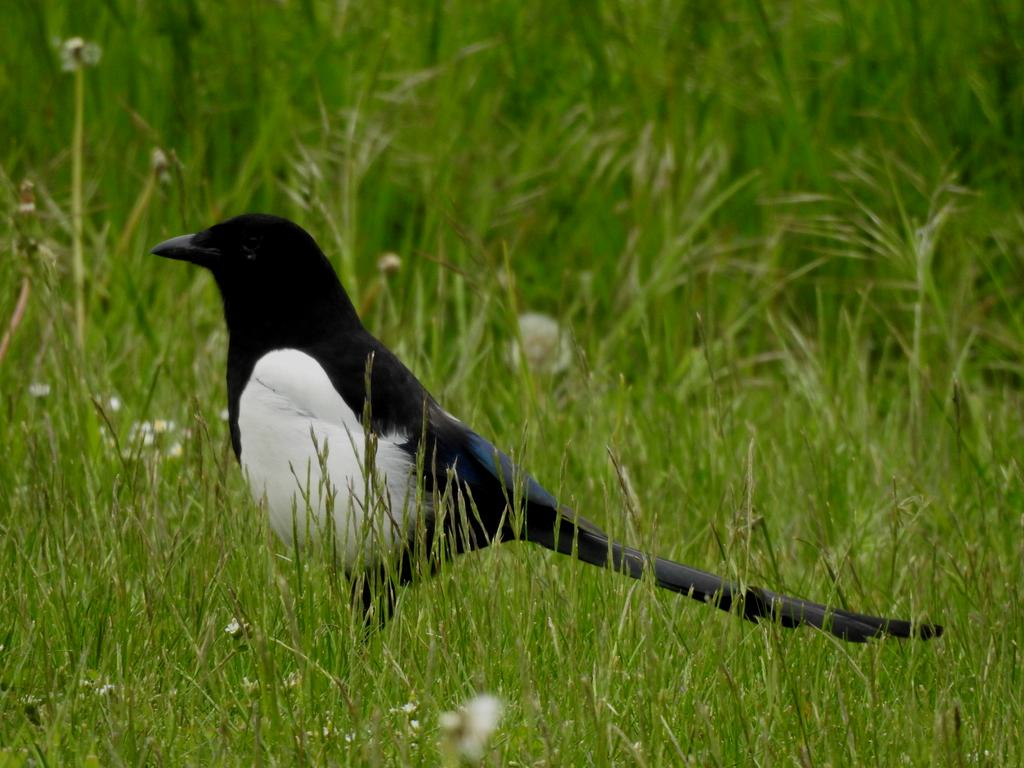PicaPica: (150, 212, 943, 644)
